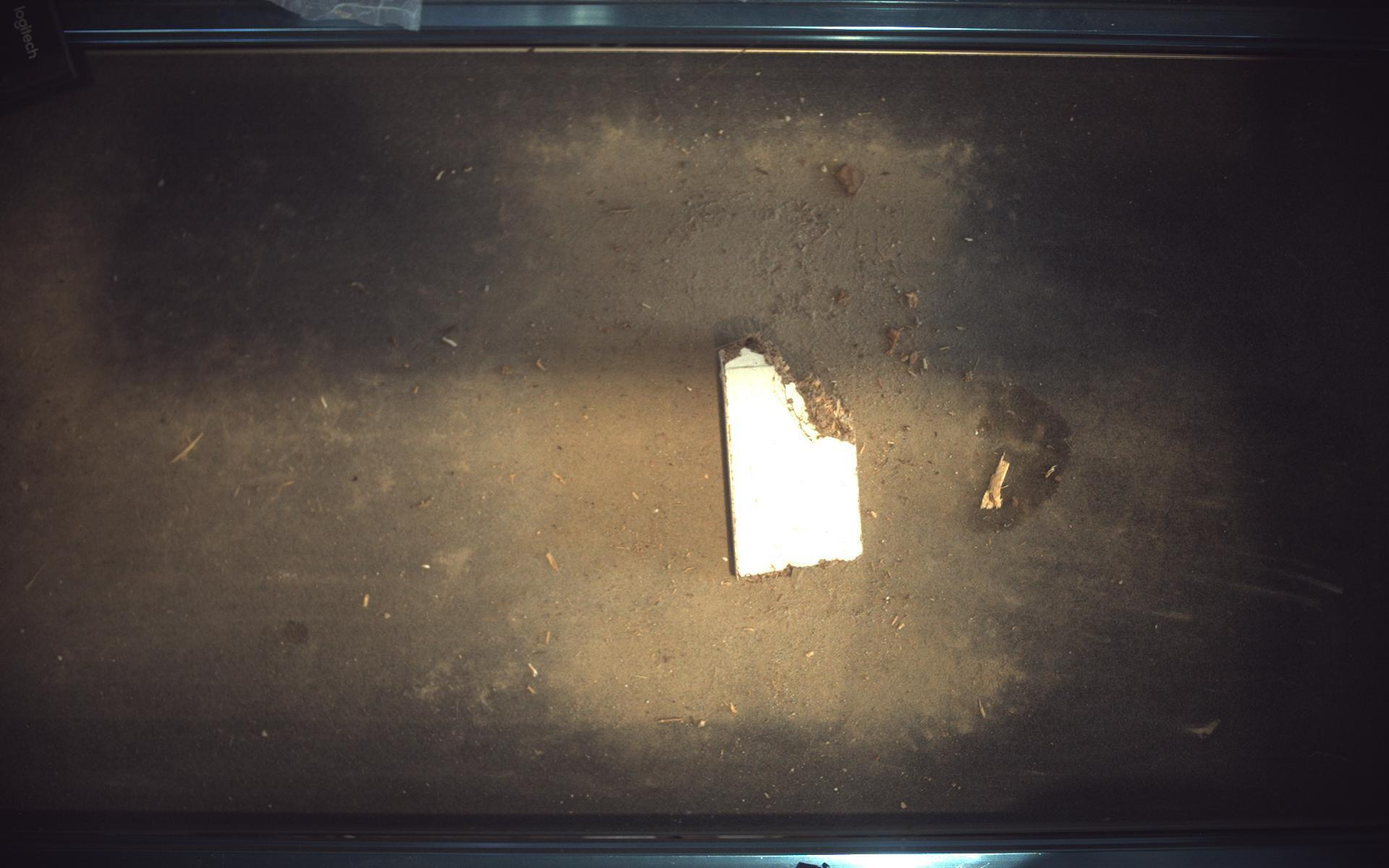wood: (720, 333, 865, 577)
